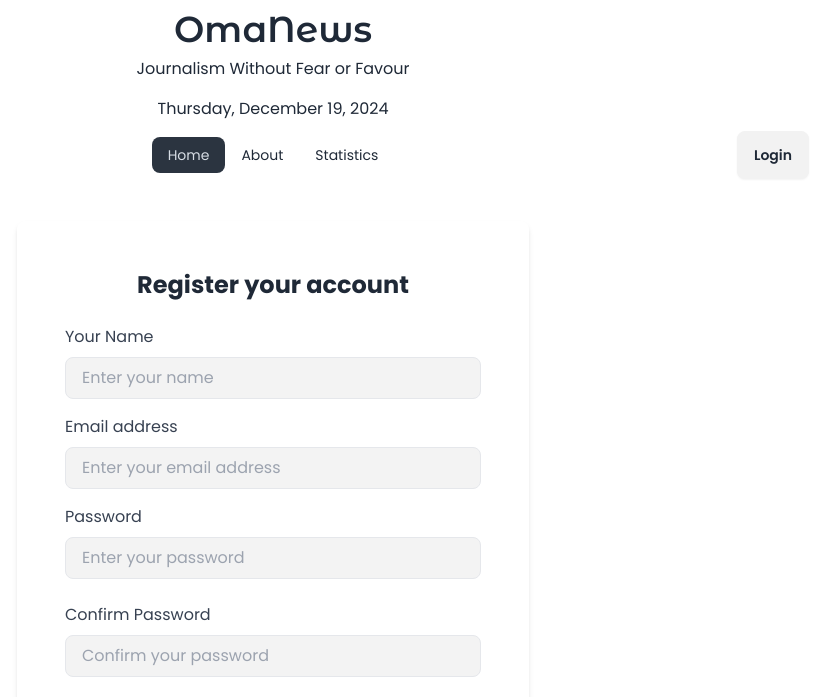
it: Register Component › UI Interactions › clears validation errors on valid input
Type "a" into the field with placeholder "Enter your name".
click(273, 378); type("a")  # box [65,357,481,399]
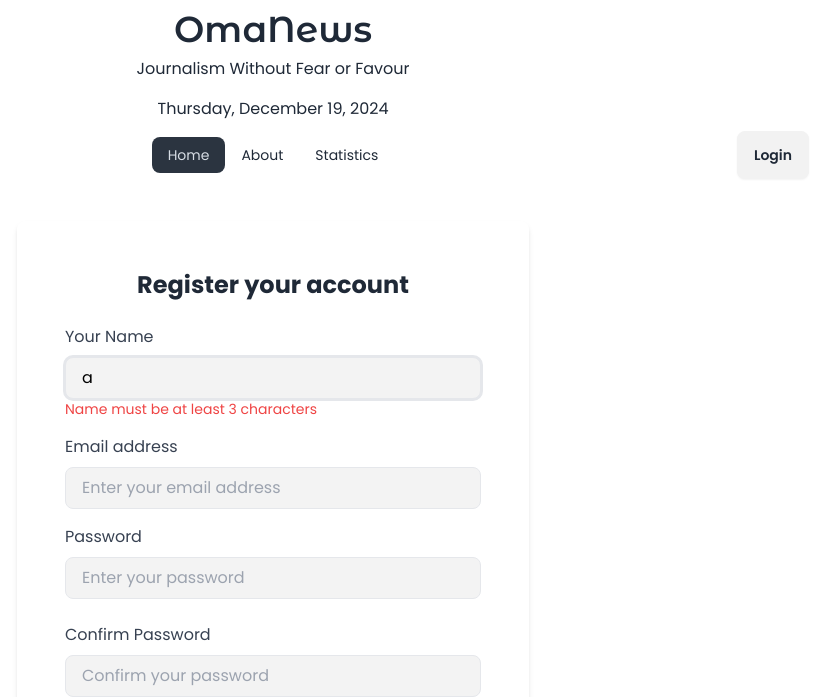
Expected: the text "Name must be at least 3 characters" is shown, [65,399,317,419]
Type "bcd" into the field with placeholder "Enter your name".
click(273, 378); type("bcd")  # box [65,357,481,399]
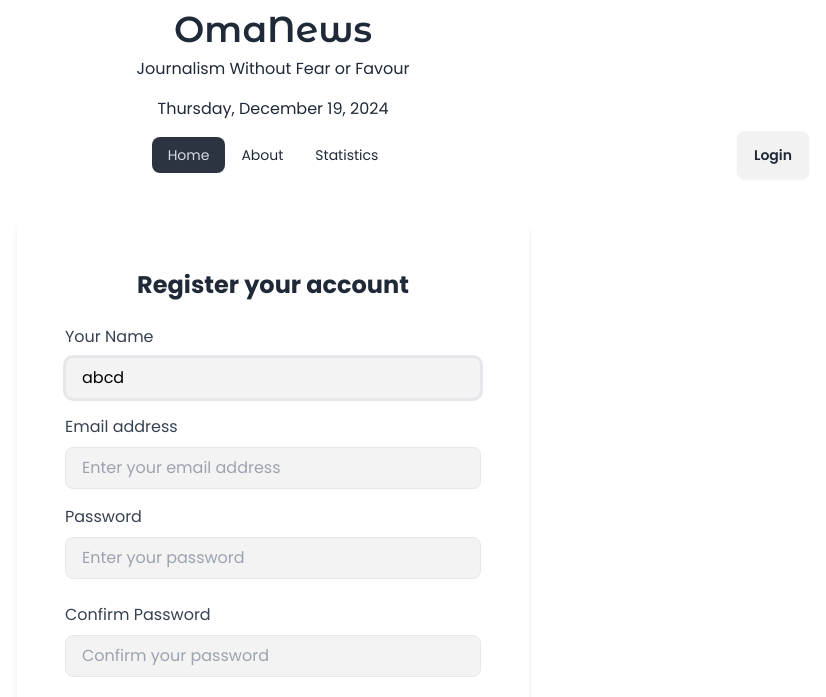
Expected: the text "Name must be at least 3 characters" is gone
